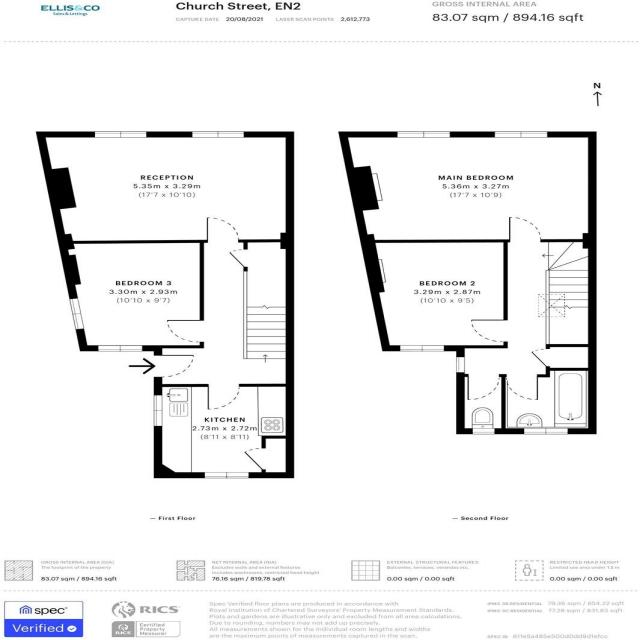DOOR: (153, 354, 195, 378), (470, 319, 509, 343), (467, 374, 501, 401), (166, 319, 204, 343), (508, 216, 542, 242), (506, 374, 539, 400), (207, 217, 239, 243), (207, 384, 240, 409)
ROOM: (36, 131, 295, 244), (338, 131, 597, 243), (360, 239, 508, 352), (58, 240, 204, 352), (154, 384, 294, 478)
WINDOW: (492, 130, 554, 140), (69, 298, 85, 330), (396, 131, 451, 138), (93, 131, 148, 138), (191, 131, 245, 138), (523, 428, 569, 435), (399, 345, 445, 352), (97, 345, 143, 352), (153, 395, 163, 427), (204, 472, 249, 479), (455, 356, 465, 373), (472, 428, 496, 435)
